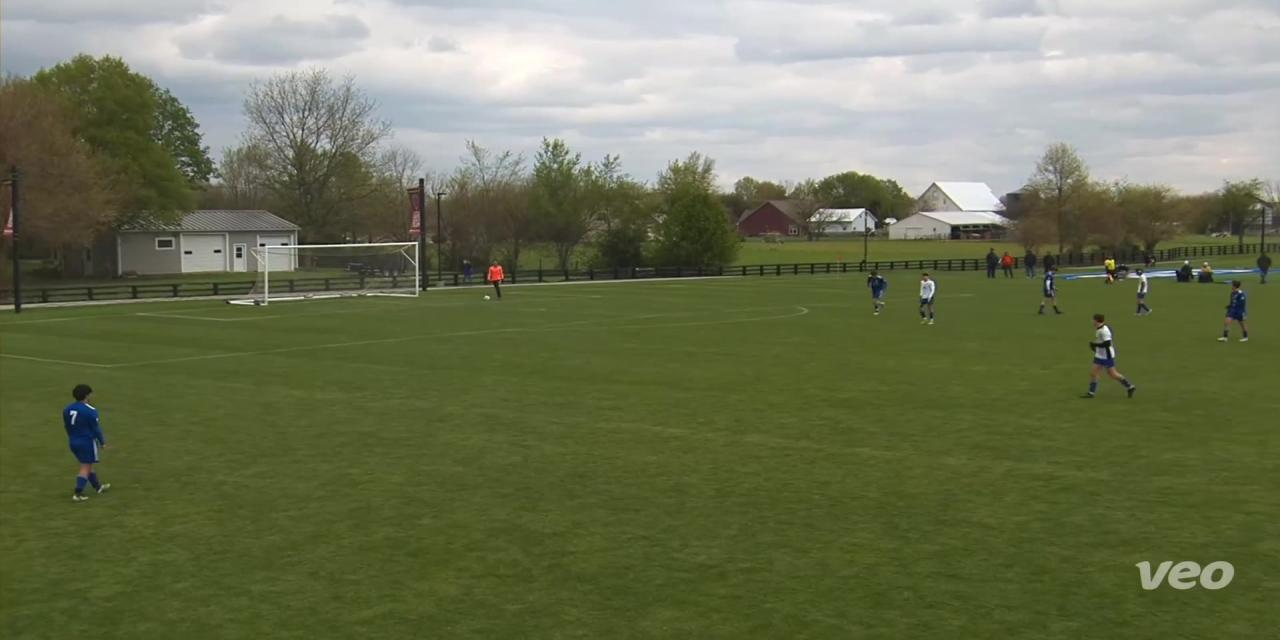goal: (235, 230, 431, 313)
sports ball: (477, 284, 492, 308)
